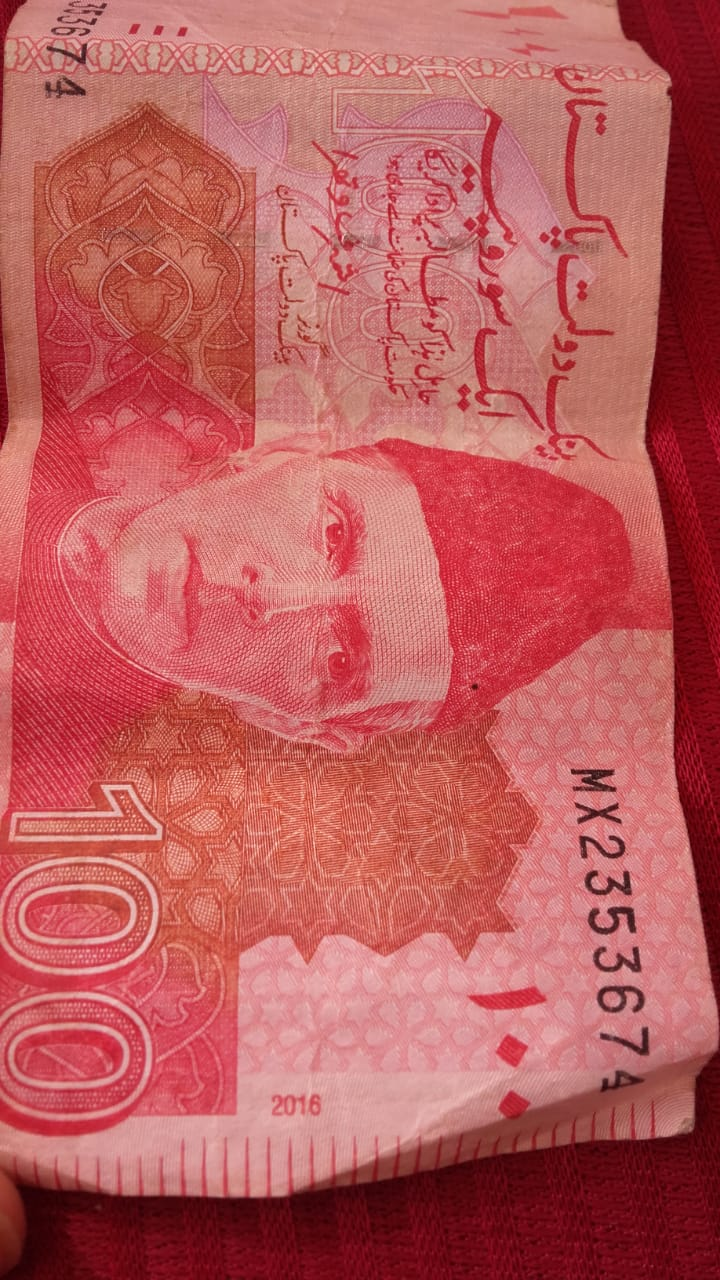100 rupee: (3, 5, 720, 1215)
